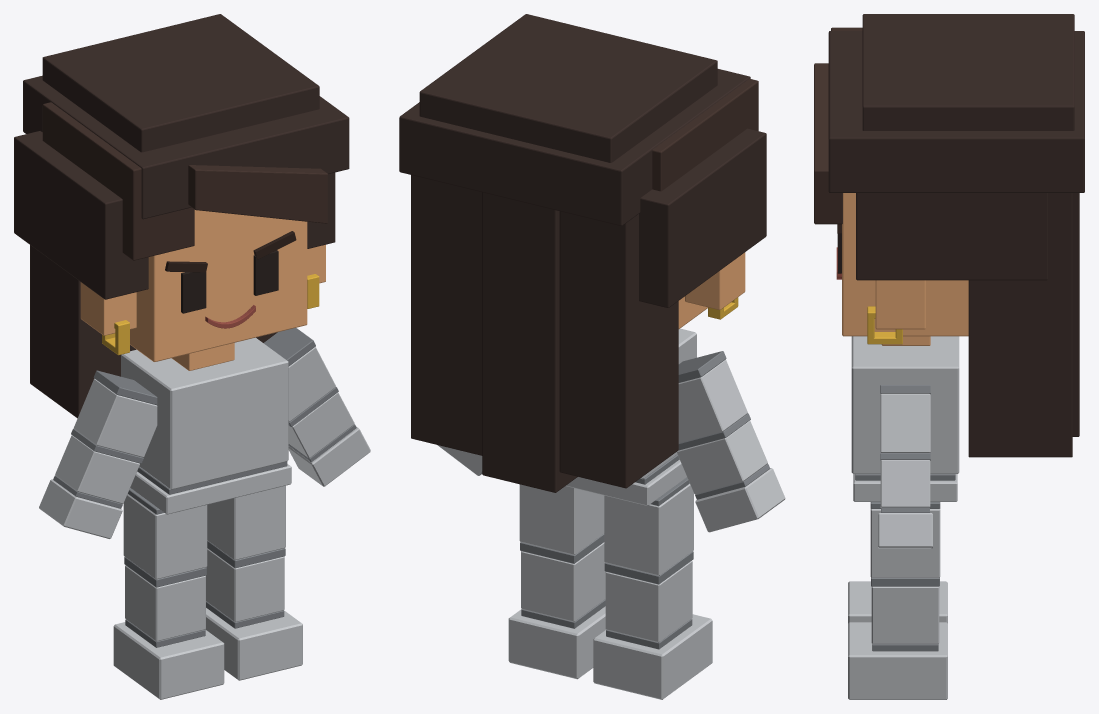
Rendered from char.glb.
3 renders of one model, left to right at view 1: azimuth 30°, elevation 25°; view 2: azimuth 150°, elevation 25°; view 3: azimuth 270°, elevation 25°, orthographic. The views are drawn at different scales.
Parts seen in each view (by area): view 1: Hair_Crown, Body_Torso, Head_Face, Hair_MainCap, Hair_Side_L, Hair_Back_L, Hair_Fringe_Block, Hair_Fringe_Swept, Body_Foot_L, Body_Thigh_L, Body_Thigh_R, Body_Foot_R (+22 smaller); view 2: Hair_Crown, Hair_Back_L, Hair_Back_C, Hair_Back_R, Hair_MainCap, Hair_Side_L, Body_Foot_L, Body_Thigh_L, Hair_Fringe_Block, Body_Shin_L, Body_Thigh_R, Body_Shin_R (+12 smaller); view 3: Hair_Crown, Hair_Back_R, Hair_MainCap, Hair_Side_R, Body_Torso, Body_Foot_R, Head_Face, Body_Shin_R, Body_UpperArm_R, Hair_Fringe_Swept, Body_Thigh_R, Ear_R (+8 smaller).
Boxes of the visible parts, x1,y1,x2,y2 form: Hair_Crown: [42, 14, 319, 152]; Body_Torso: [121, 337, 288, 489]; Head_Face: [130, 210, 307, 361]; Hair_MainCap: [23, 75, 349, 219]; Hair_Side_L: [14, 131, 148, 299]; Hair_Back_L: [30, 245, 136, 418]; Hair_Fringe_Block: [42, 102, 194, 260]; Hair_Fringe_Swept: [188, 165, 327, 223]; Body_Foot_L: [113, 622, 224, 699]; Body_Thigh_L: [123, 494, 207, 579]; Body_Thigh_R: [207, 485, 285, 560]; Body_Foot_R: [205, 608, 302, 680]; Hair_Crown: [419, 14, 717, 162]; Hair_Back_L: [559, 211, 678, 488]; Hair_Back_C: [482, 192, 577, 492]; Hair_Back_R: [411, 175, 482, 455]; Hair_MainCap: [399, 69, 750, 225]; Hair_Side_L: [639, 128, 766, 307]; Body_Foot_L: [593, 614, 712, 699]; Body_Thigh_L: [604, 483, 693, 575]; Hair_Fringe_Block: [652, 79, 758, 191]; Body_Shin_L: [605, 561, 692, 642]; Body_Thigh_R: [519, 484, 604, 554]; Body_Shin_R: [521, 542, 605, 621]; Hair_Crown: [862, 14, 1074, 130]; Hair_Back_R: [968, 193, 1072, 457]; Hair_MainCap: [828, 31, 1084, 192]; Hair_Side_R: [856, 193, 1047, 280]; Body_Torso: [851, 336, 959, 473]; Body_Foot_R: [848, 622, 947, 699]; Head_Face: [842, 193, 968, 336]; Body_Shin_R: [871, 586, 939, 644]; Body_UpperArm_R: [880, 393, 930, 452]; Hair_Fringe_Swept: [814, 63, 842, 224]; Body_Thigh_R: [870, 509, 940, 577]; Ear_R: [875, 280, 925, 329].
Bounding box in the file's own units: 0.555 × 0.9816 × 0.3972.
